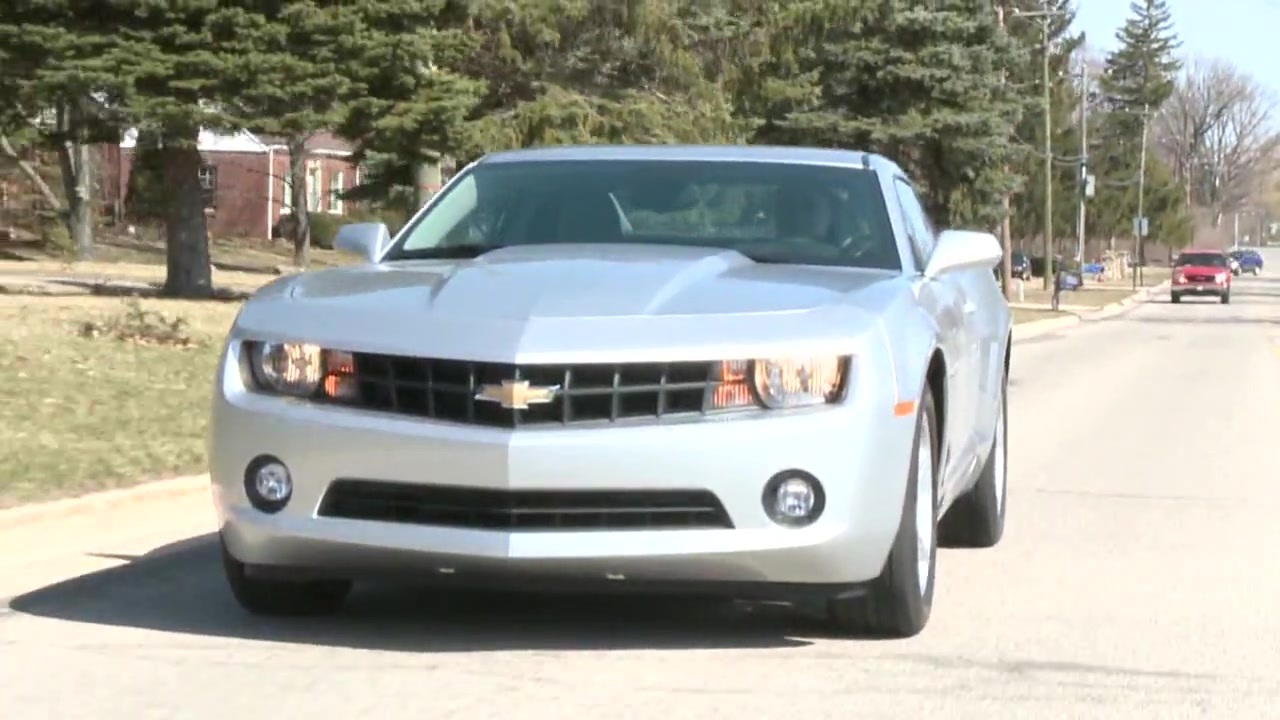car: (203, 135, 1018, 643)
